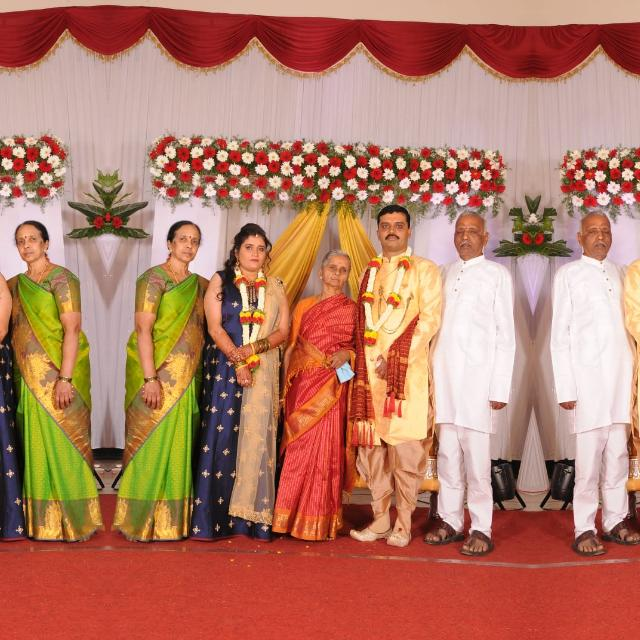person: (349, 191, 451, 539), (430, 198, 532, 540), (532, 198, 634, 540), (203, 218, 299, 538), (120, 204, 214, 528), (0, 204, 94, 528), (287, 236, 368, 558), (613, 191, 640, 539), (0, 218, 11, 537)
